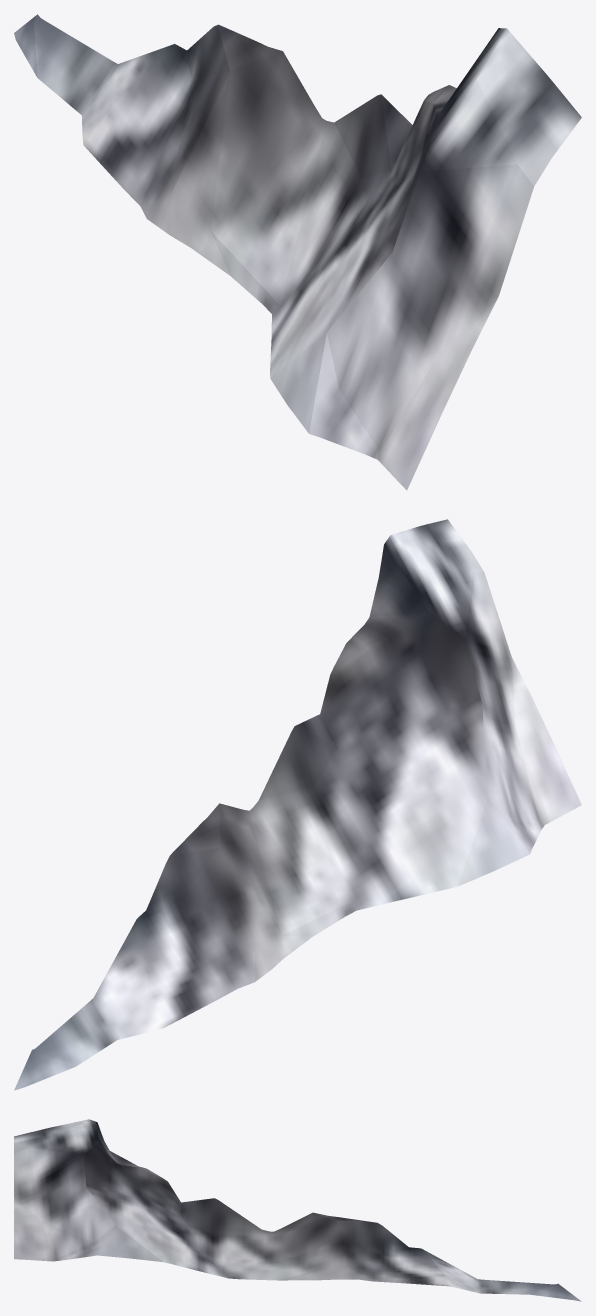
Rendered from Tile_+008_+006_L19_00520.glb.
The picture shows the model from 3 angles, top to bottom: view 1: azimuth 30°, elevation 25°; view 2: azimuth 150°, elevation 25°; view 3: azimuth 270°, elevation 25°; orthographic projection. The views are drawn at different scales.
Parts seen in each view (by area): view 1: rtc; view 2: rtc; view 3: rtc.
Part boxes in pixels (left/top/right/bottom): rtc: left=14, top=14, right=581, bottom=490; rtc: left=14, top=519, right=581, bottom=1090; rtc: left=14, top=1119, right=581, bottom=1301.
Bounding box in the file's own units: 2.3 × 4.21 × 11.85.
1 material, 1 textured.
